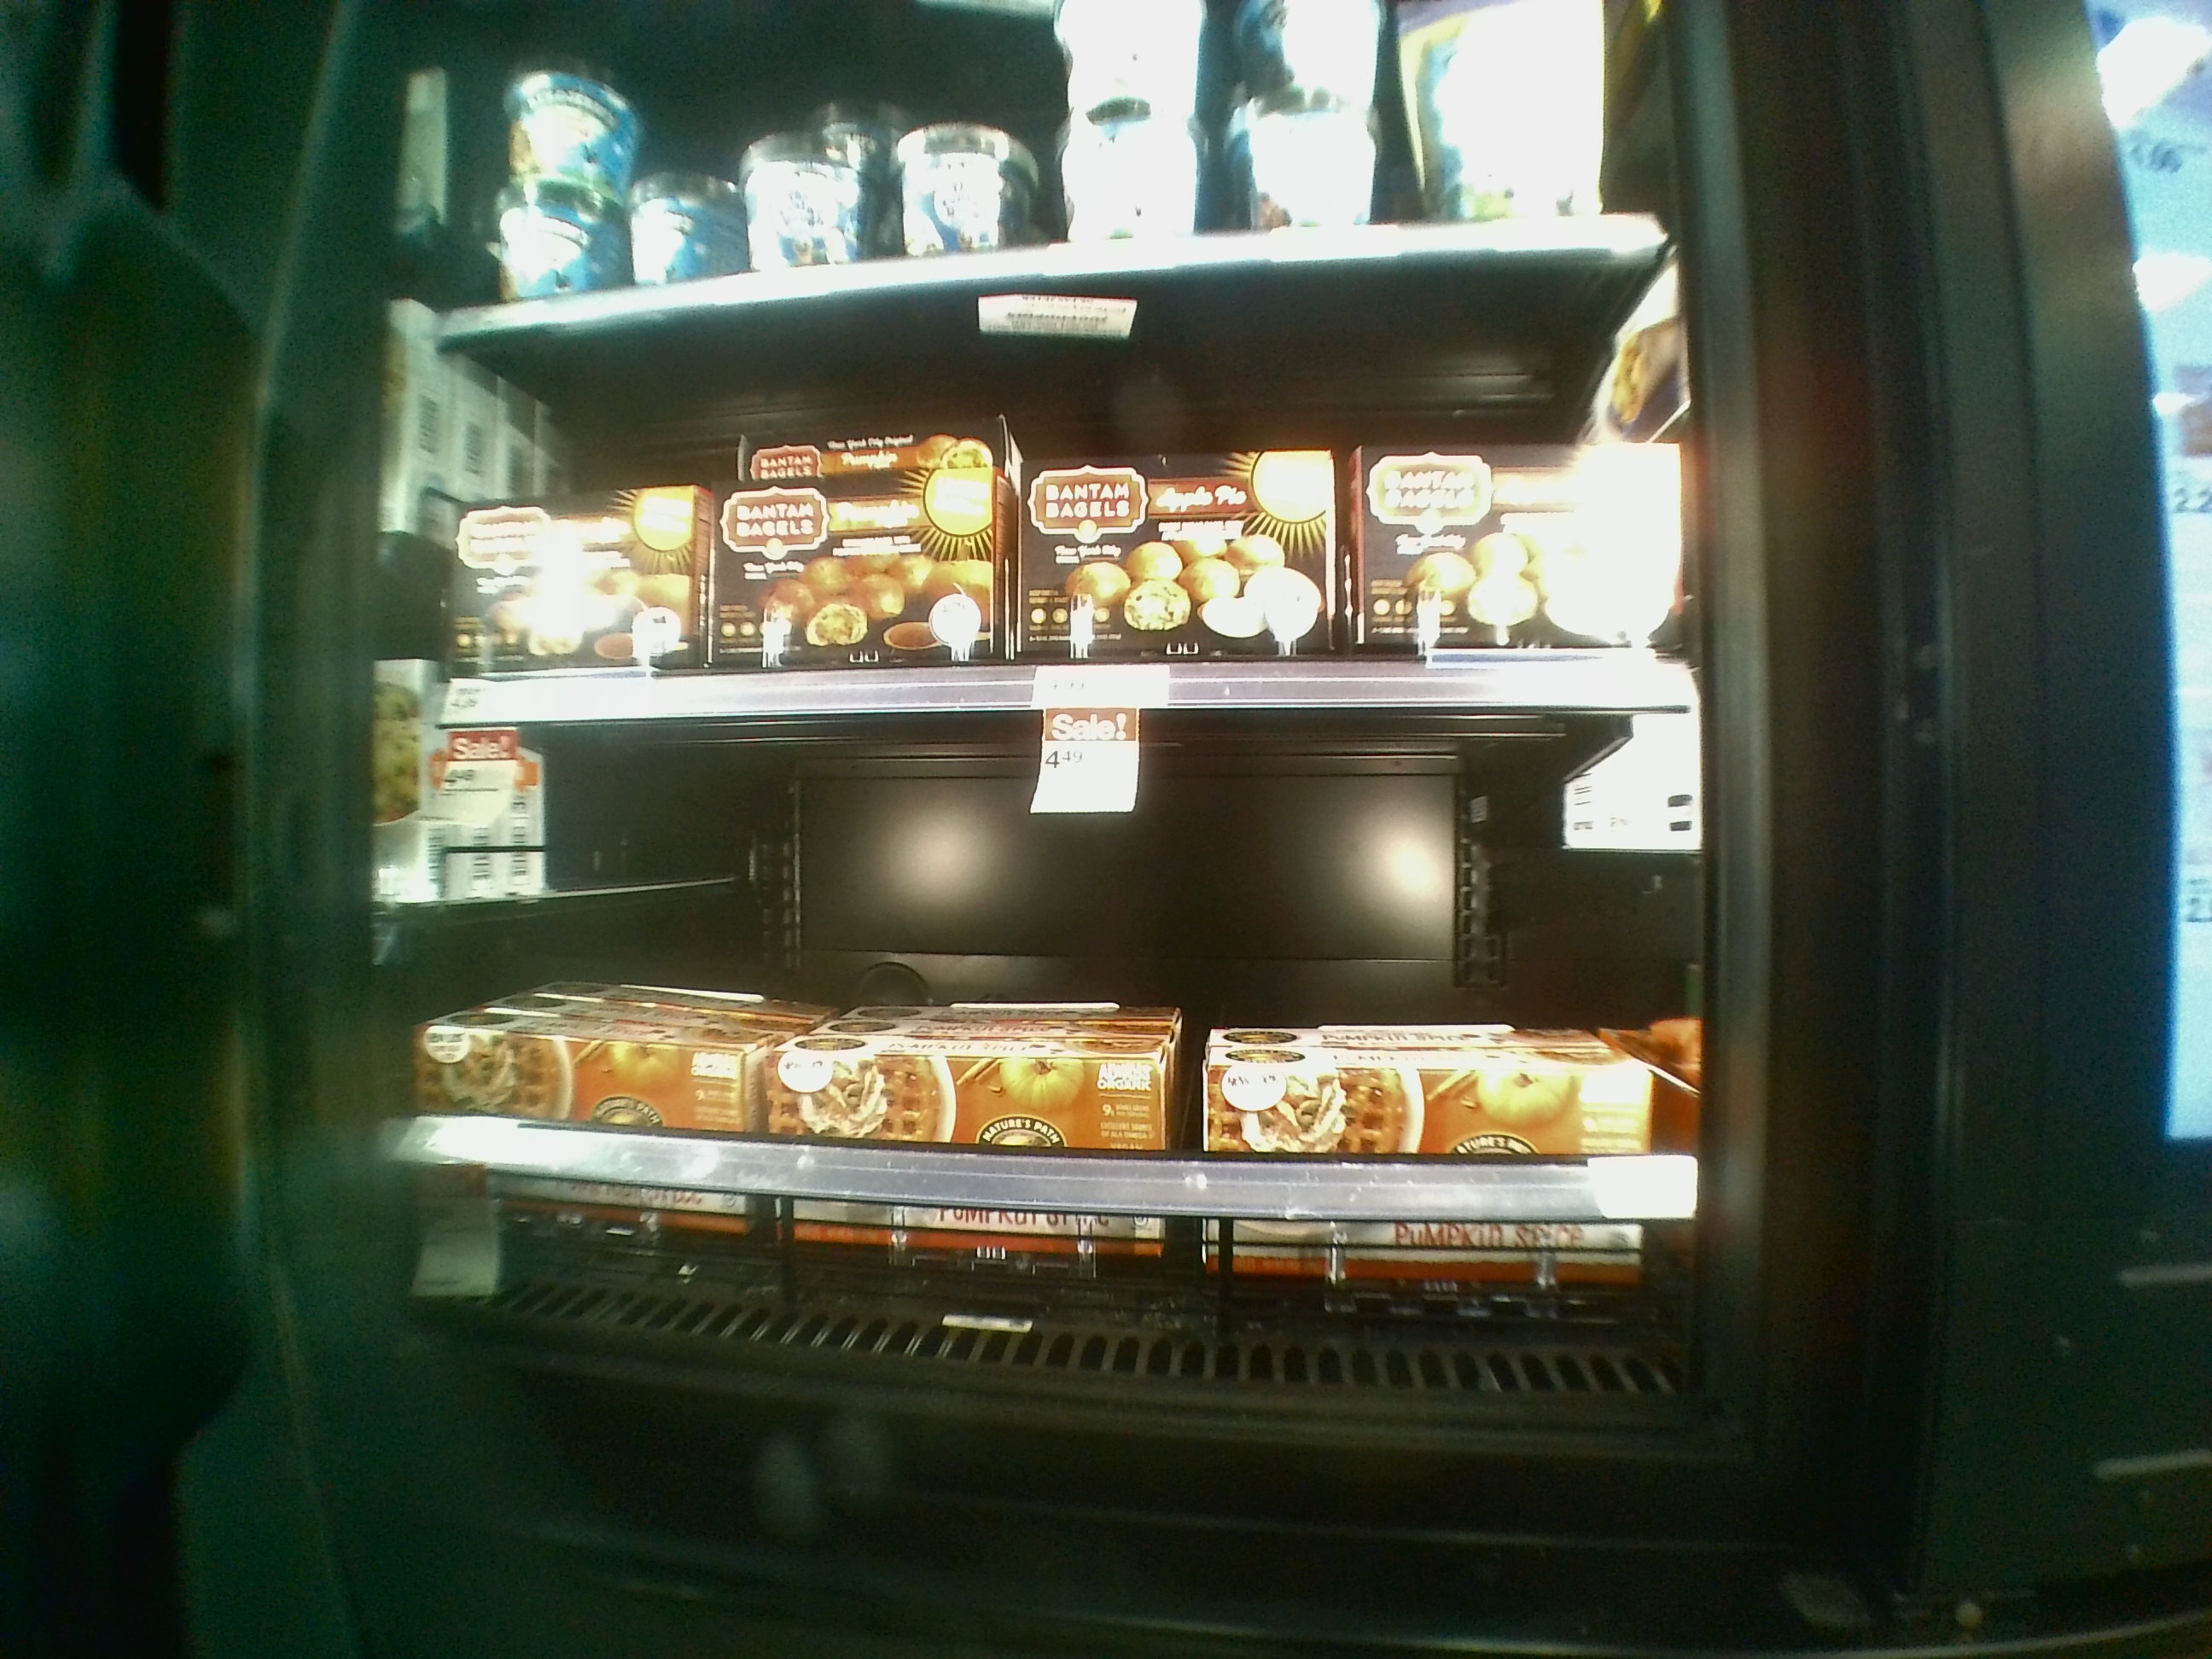shelf: (444, 680, 1698, 1417), (430, 310, 1683, 716)
